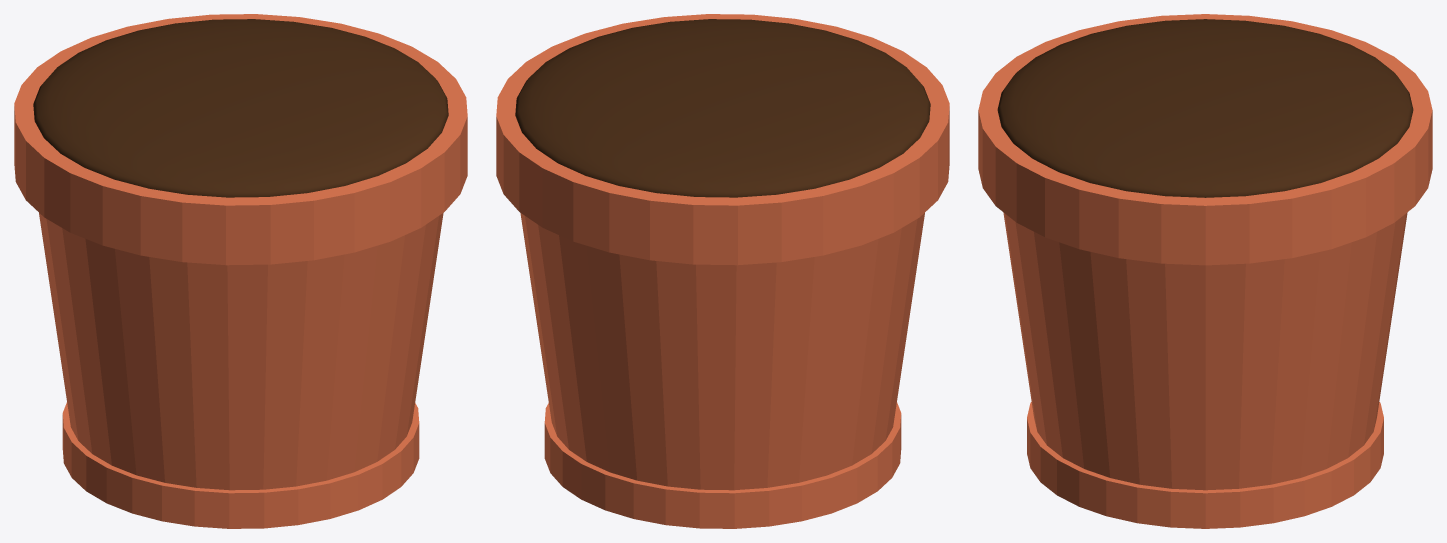
Rendered from Vase2.fbx.
3 views of the same model, side by side, from view 1: azimuth 30°, elevation 25°; view 2: azimuth 150°, elevation 25°; view 3: azimuth 270°, elevation 25° (orthographic).
Parts seen in each view (by area): view 1: Vase.007, Sphere.015; view 2: Vase.007, Sphere.015; view 3: Vase.007, Sphere.015.
Boxes of the visible parts, left/top/right/bottom form: Vase.007: left=14, top=14, right=467, bottom=528; Sphere.015: left=33, top=19, right=448, bottom=197; Vase.007: left=496, top=14, right=949, bottom=528; Sphere.015: left=515, top=19, right=930, bottom=197; Vase.007: left=978, top=14, right=1432, bottom=528; Sphere.015: left=997, top=19, right=1413, bottom=197.
Size of the model in its own units: 218 by 195 by 218.
